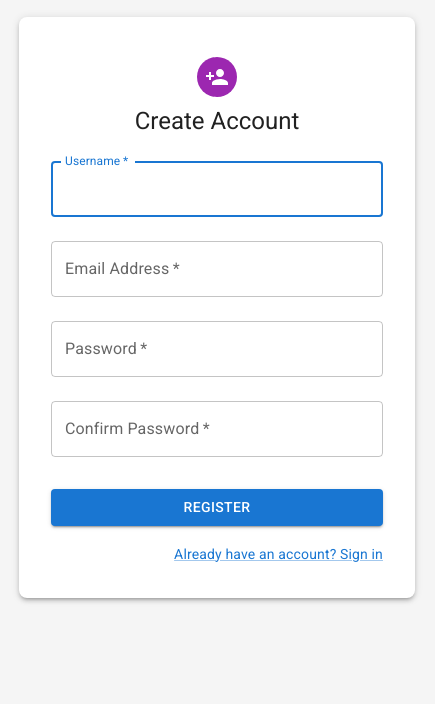
Scenario: Register Component - Full Coverage › displays fallback error when register throws exception
Type "testuser" into the field labelled "Username *" at (217, 189), box [51,161,383,217]
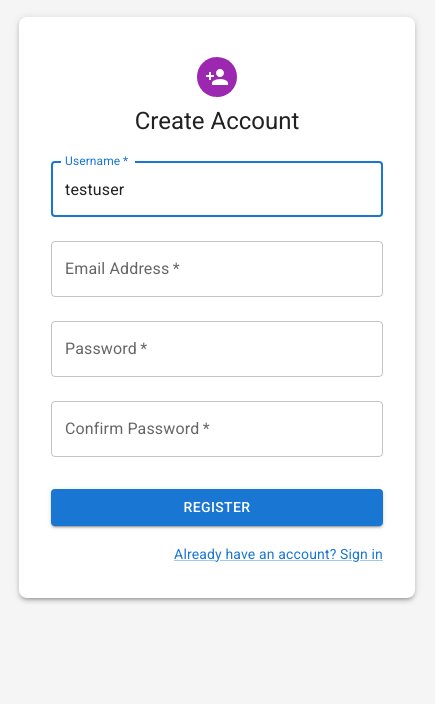
Type "test@example.com" into the field labelled "Email Address *" at (217, 269), box [51,241,383,297]
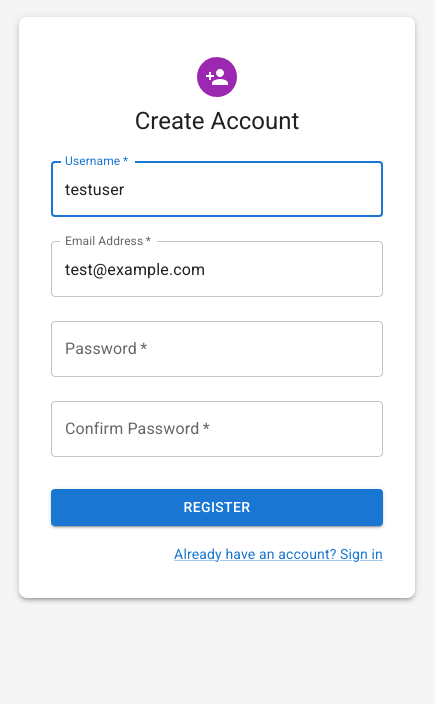
Click the button "Register" at (217, 507), box [51,489,383,526]
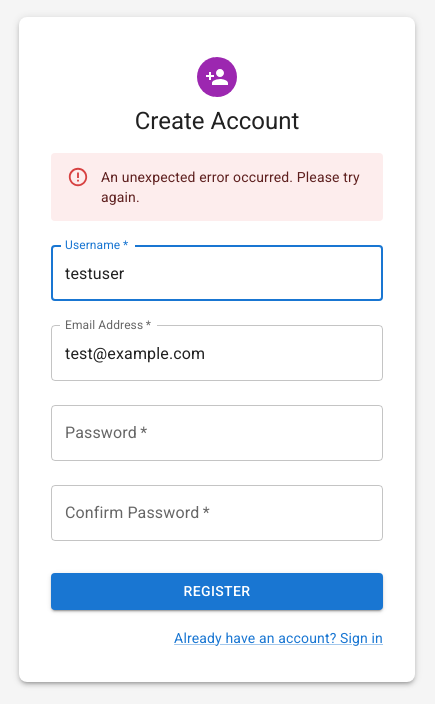
expect the text "An unexpected error occurred. Please try again." is shown: met, box [101,159,367,215]
